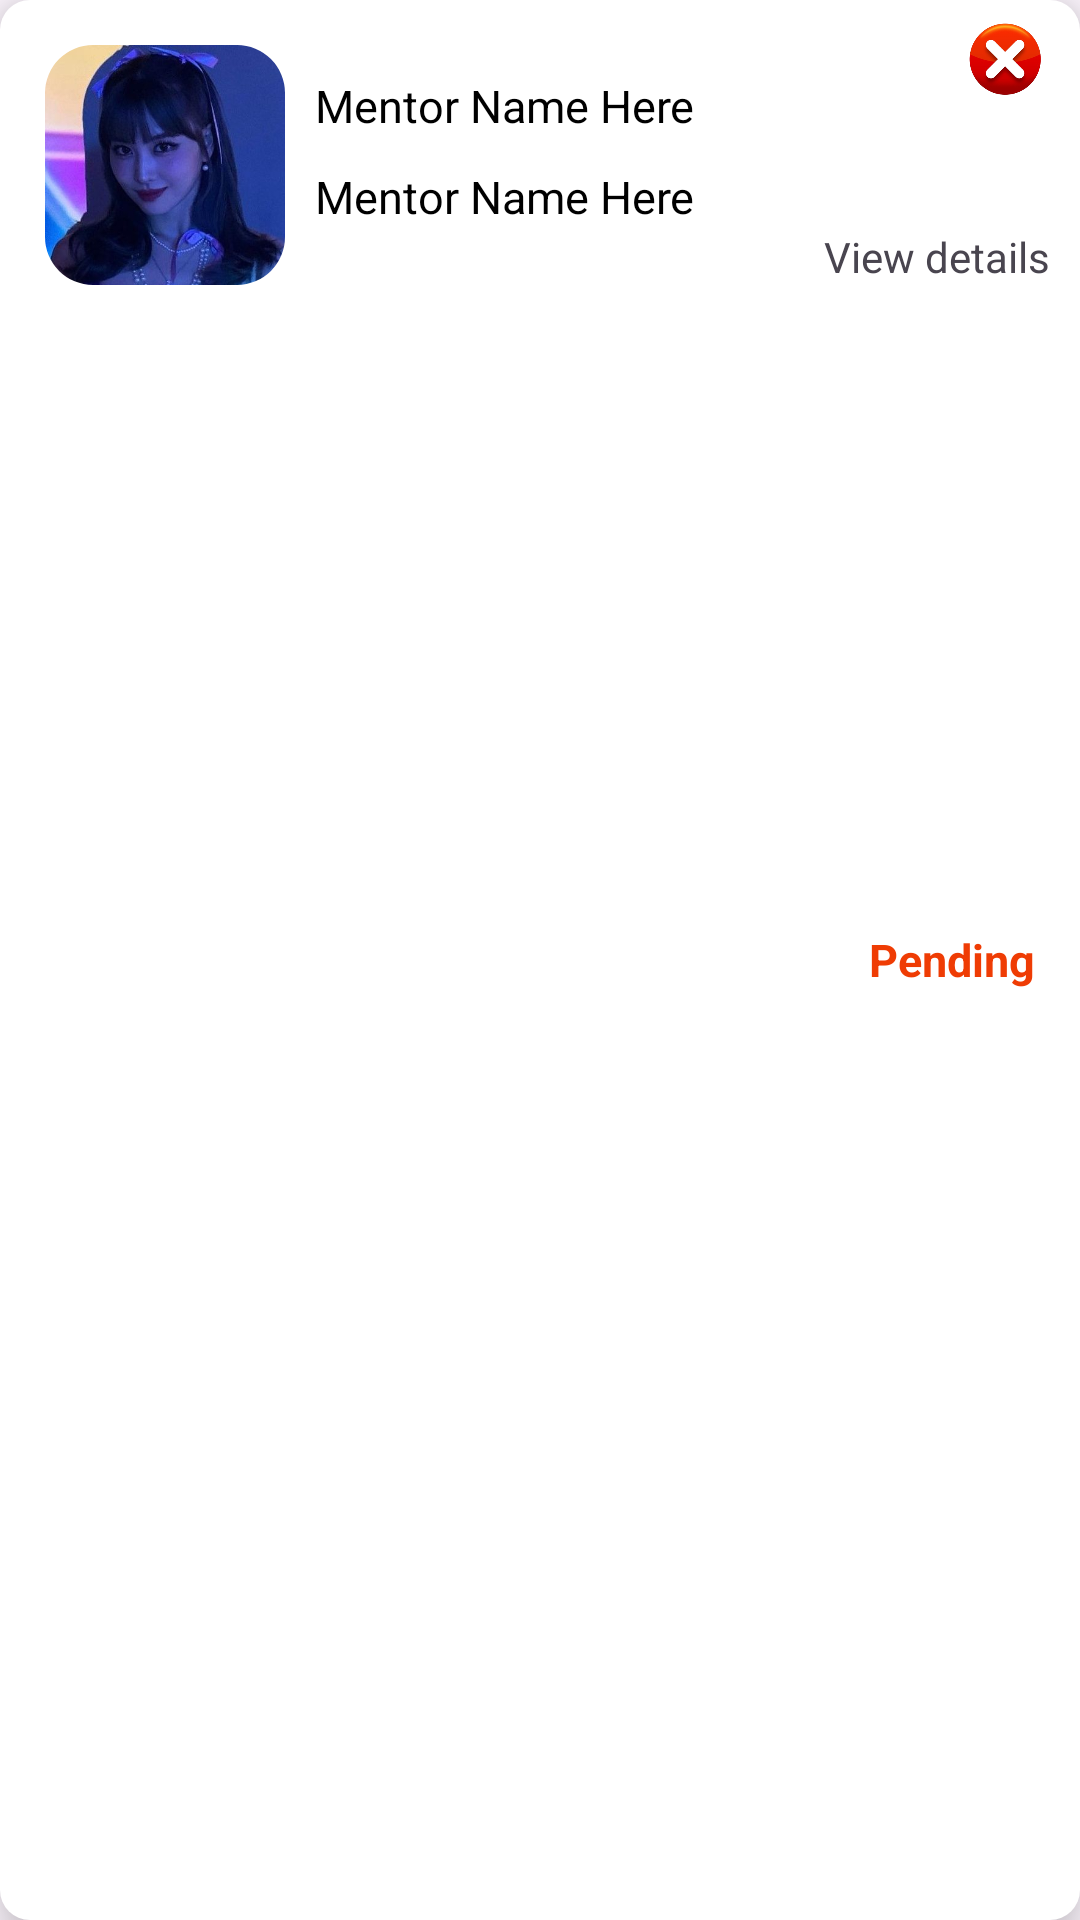

Icon bounding boxes for this 1080w x 1920h phone screenshot, format (x1, y1, x2, y2):
profile: (45, 45, 285, 285)
reject: (969, 23, 1041, 95)
